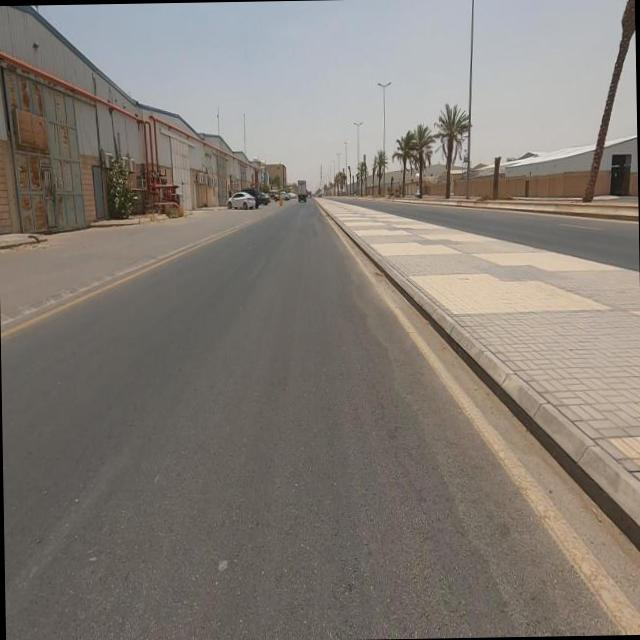debris: (0, 75, 78, 183)
